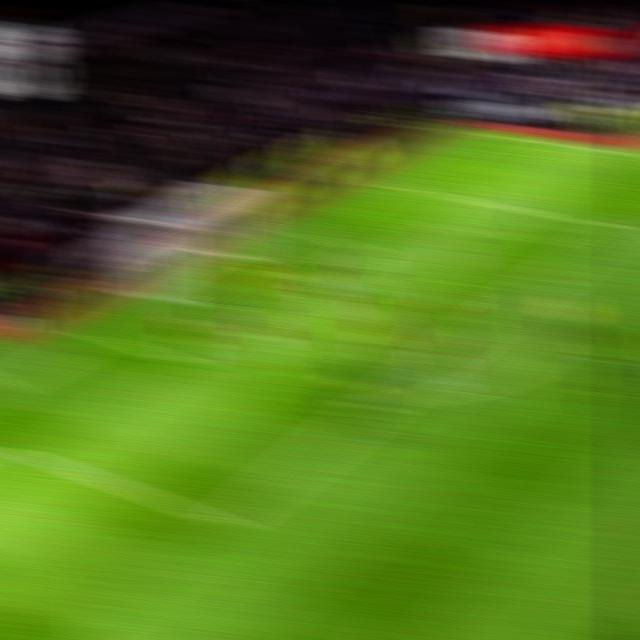bigarea_bottom_inner: (209, 513, 243, 531)
bigarea_top_inner: (603, 220, 635, 234)
bigarea_top_outter: (375, 177, 407, 190)
bottom_arc_area_intersection: (371, 393, 402, 406)
smallarea_bottom_outter: (84, 327, 118, 345)
smallarea_top_inner: (357, 244, 385, 256)
smallarea_top_outter: (284, 228, 315, 241)
top_arc_area_intersection: (510, 289, 541, 301)
